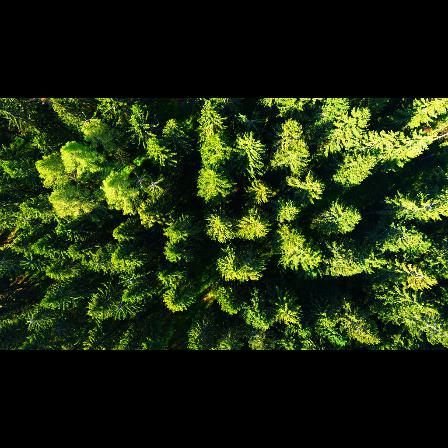Sick: (239, 108, 268, 134), (115, 270, 143, 291), (144, 173, 166, 196), (48, 321, 72, 340), (21, 312, 43, 332), (108, 300, 130, 320), (128, 171, 149, 190)
